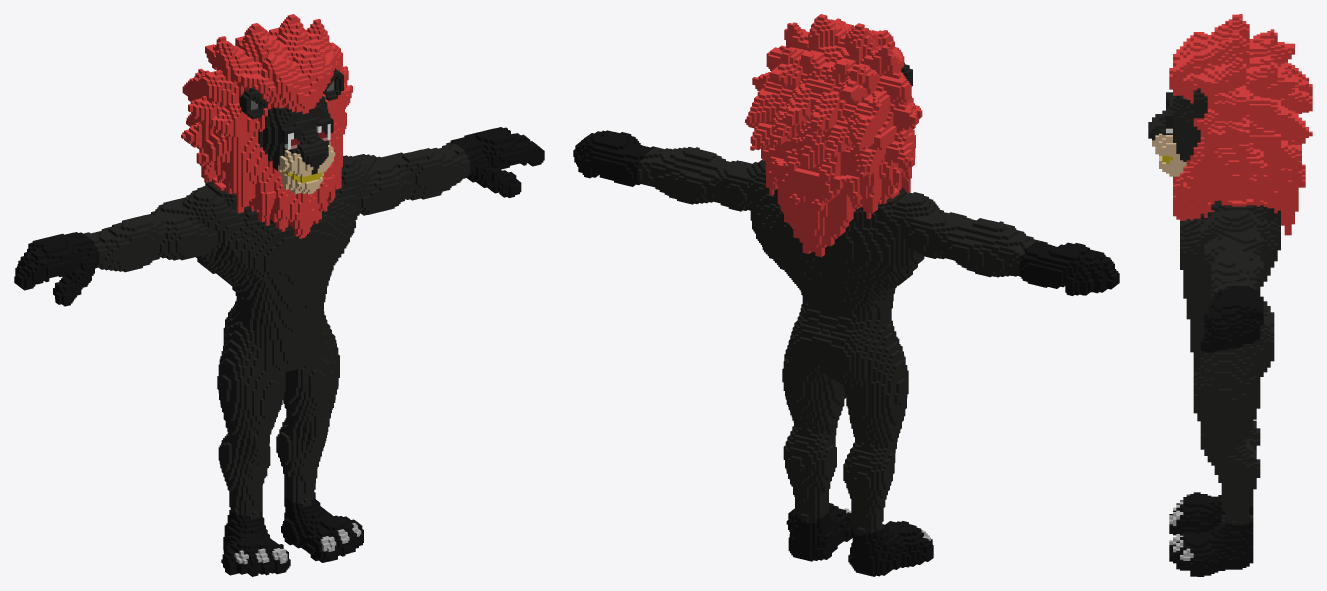
The picture shows the model from 3 angles, left to right: view 1: azimuth 30°, elevation 25°; view 2: azimuth 150°, elevation 25°; view 3: azimuth 270°, elevation 25°; orthographic projection. The views are drawn at different scales.
Visible parts, largest first — view 1: gold_smile; view 2: gold_smile; view 3: gold_smile.
Boxes of the visible parts, x1,y1,x2,y2 form: gold_smile: [14, 14, 544, 576]; gold_smile: [573, 14, 1119, 576]; gold_smile: [1148, 14, 1312, 576].
Bounding box in the file's own units: 17.2 × 16.5 × 4.7.
4 materials, 4 textured.
